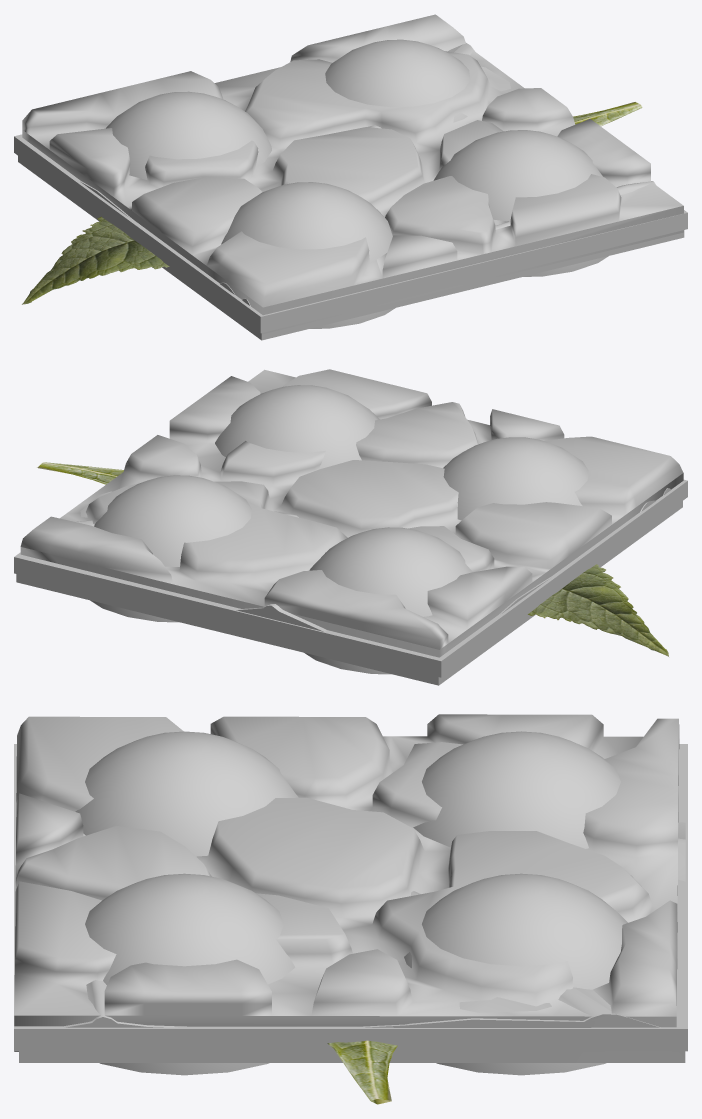
File: Microscope(2).fbx
The picture shows the model from 3 angles, top to bottom: view 1: azimuth 30°, elevation 25°; view 2: azimuth 150°, elevation 25°; view 3: azimuth 270°, elevation 25°; orthographic projection. The views are drawn at different scales.
Visible parts, largest first — view 1: time03, time04, time01, time02; view 2: time03, time04, time02, time01; view 3: time03, time04, time02, time01.
Boxes of the visible parts, bbox=[...] form: time03: bbox=[22, 14, 683, 334]; time04: bbox=[14, 39, 687, 333]; time01: bbox=[22, 101, 642, 304]; time02: bbox=[18, 43, 684, 340]; time03: bbox=[20, 369, 683, 657]; time04: bbox=[14, 385, 687, 677]; time02: bbox=[16, 488, 682, 685]; time01: bbox=[37, 462, 668, 656]; time03: bbox=[14, 714, 679, 1051]; time04: bbox=[14, 731, 687, 1075]; time02: bbox=[19, 822, 685, 1062]; time01: bbox=[327, 1040, 397, 1104].
Bounding box in the file's own units: 169270 × 28082 × 116065.
